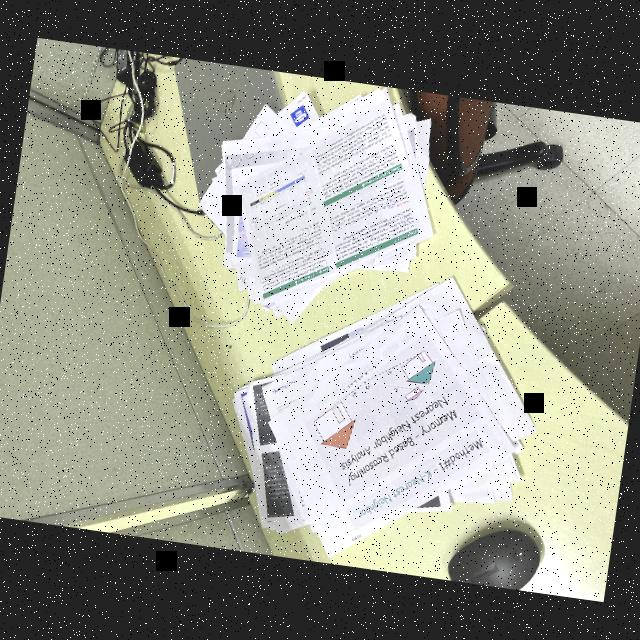reuseable_paper: (210, 252, 552, 586), (180, 63, 454, 340)
